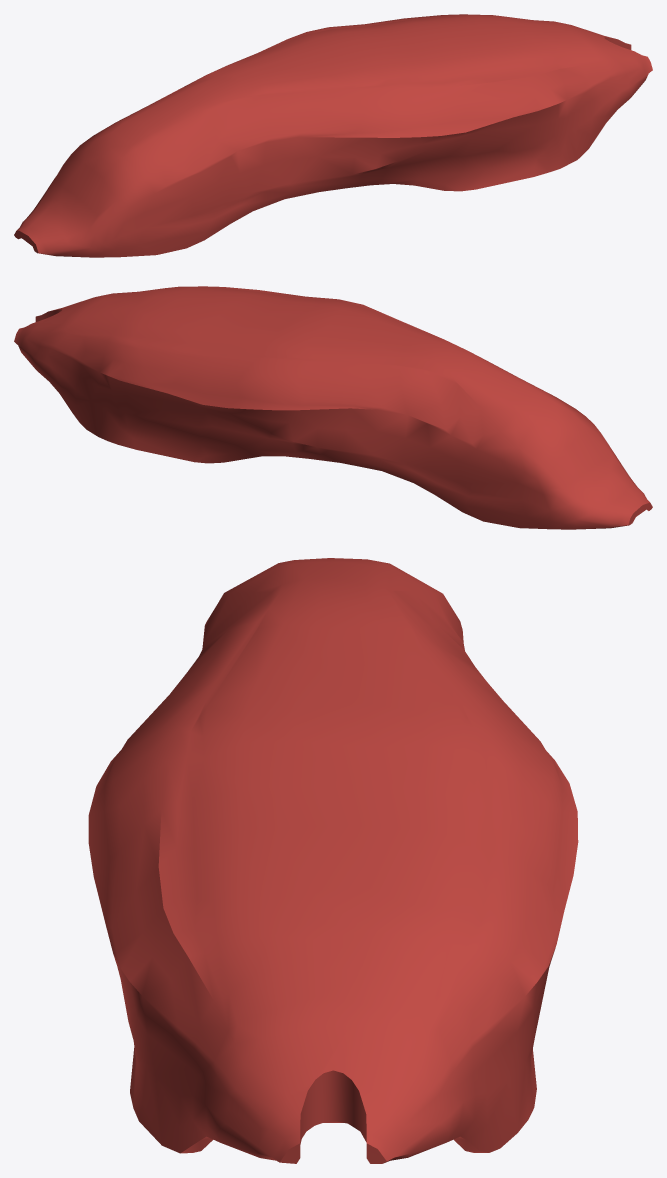
The model's file is race_lod2.glb.
3 views of the same model, one above another, from view 1: azimuth 30°, elevation 25°; view 2: azimuth 150°, elevation 25°; view 3: azimuth 270°, elevation 25° (orthographic). The views are drawn at different scales.
Parts seen in each view (by area): view 1: race_lod2; view 2: race_lod2; view 3: race_lod2.
Boxes of the visible parts, x1,y1,x2,y2 form: race_lod2: (14,14,652,257); race_lod2: (14,286,652,529); race_lod2: (88,558,578,1163).
Bounding box in the file's own units: 1.07 × 0.2107 × 0.3682.
